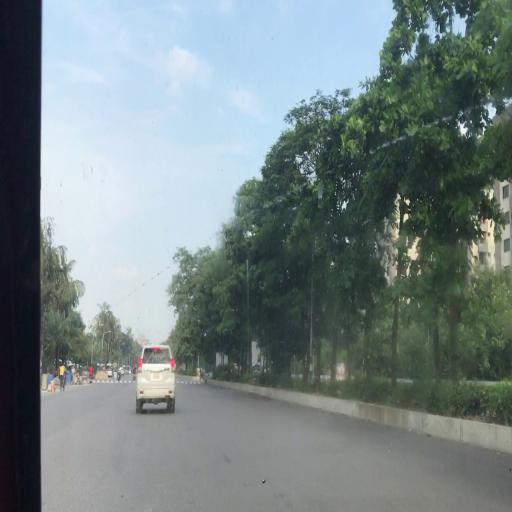bicycle: (60, 363, 67, 395)
suv: (136, 343, 177, 420)
